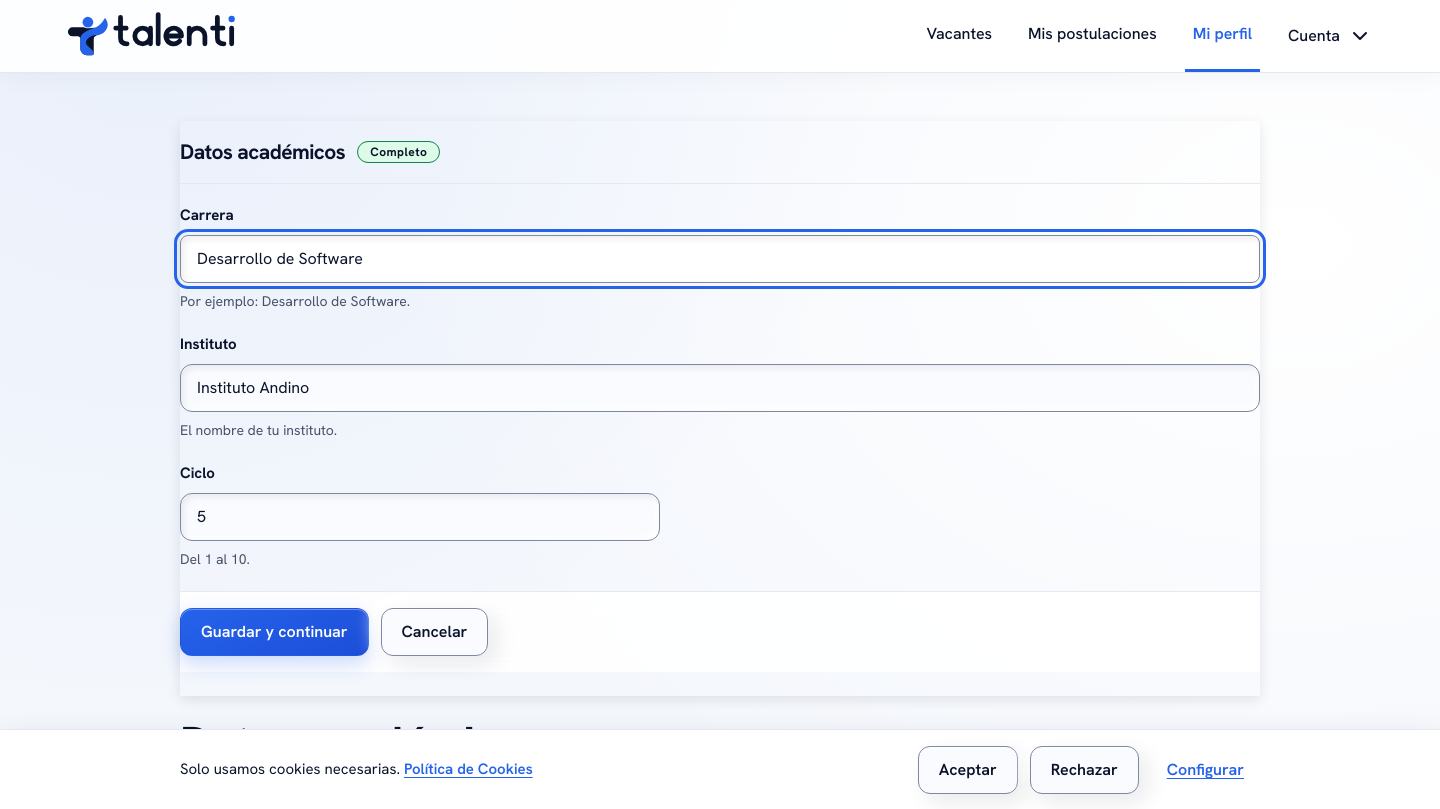
Test case: Private page (006-14) › nothing of the profile is kept in storage or in the address
The image size is (1440, 809).
Clear the field labelled "Carrera" at (720, 259), box [180,235,1260,283]
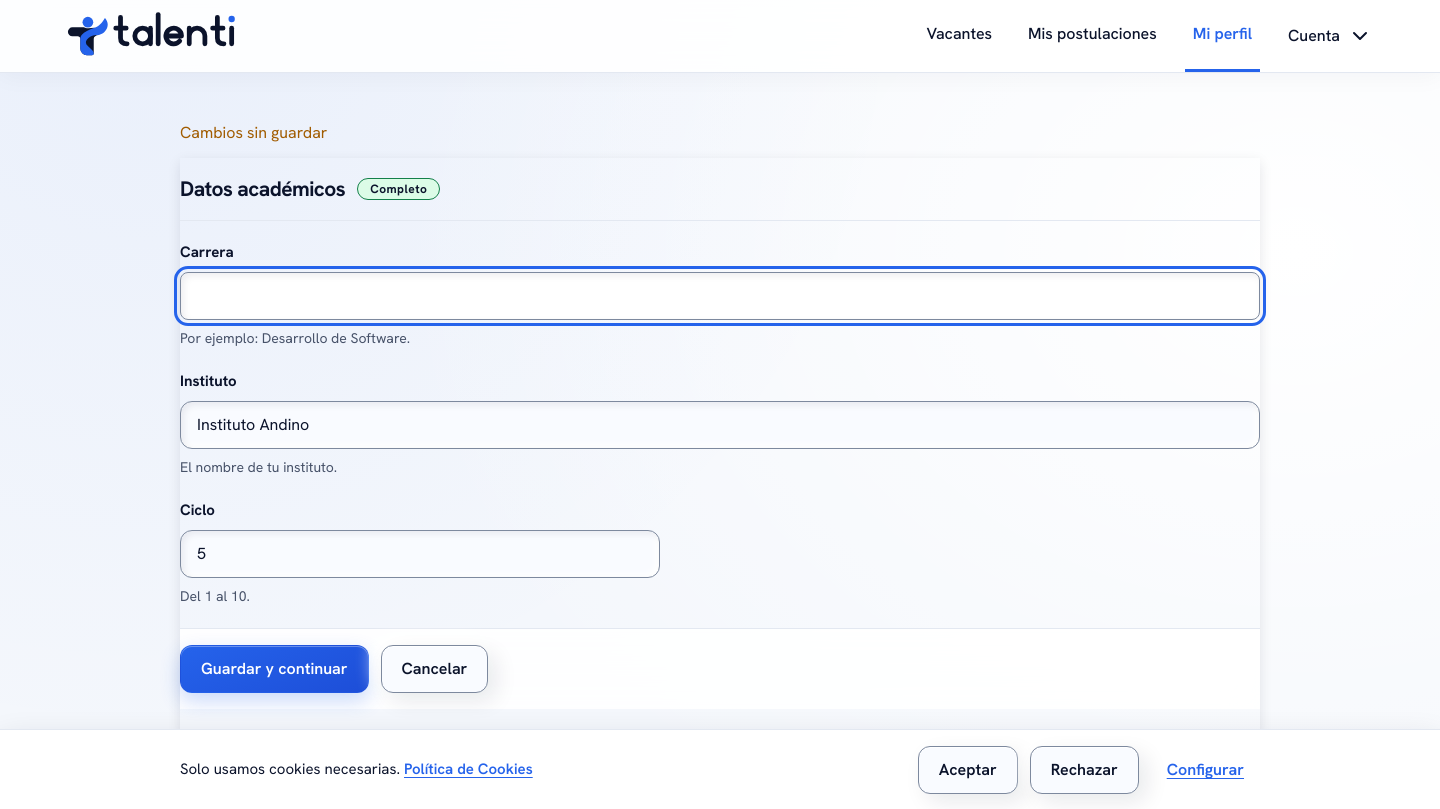
Type "Mecatrónica" into the field labelled "Carrera".
click(720, 296); type("Mecatrónica")  # box [180,272,1260,320]
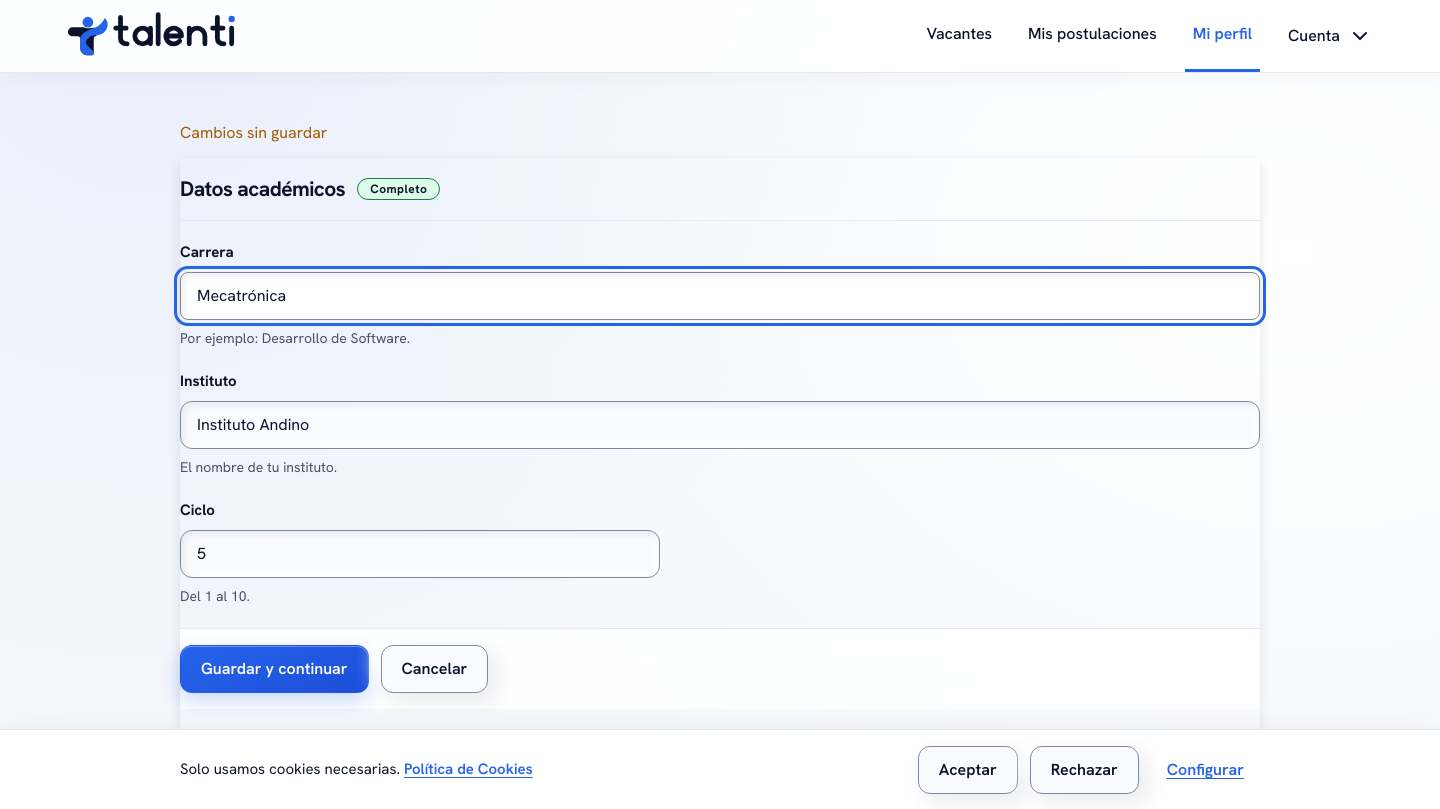
Click the button "Guardar y continuar".
click(274, 669)  # box [180,645,368,693]
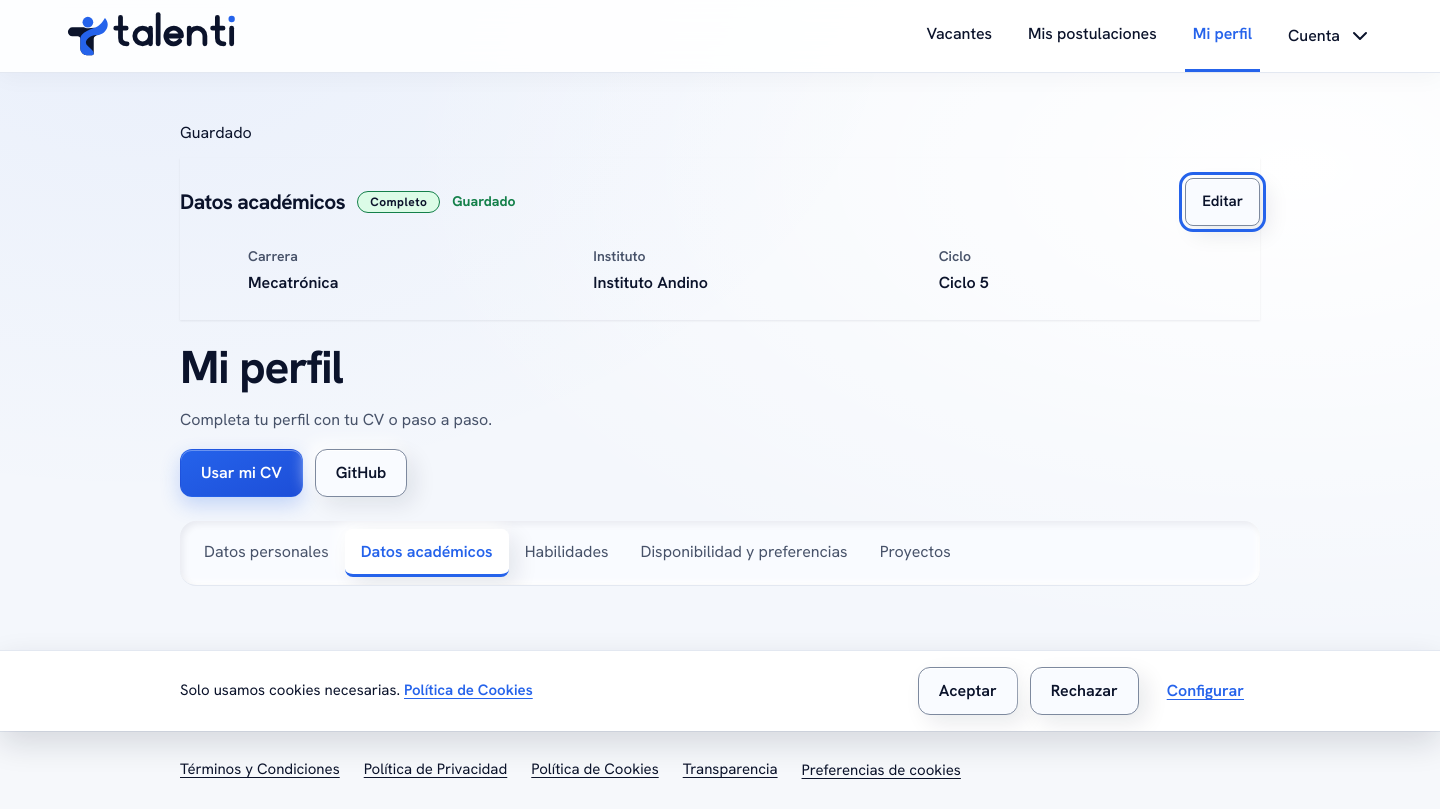
Result: the text "Mecatrónica" is shown at [248,272,338,294]
